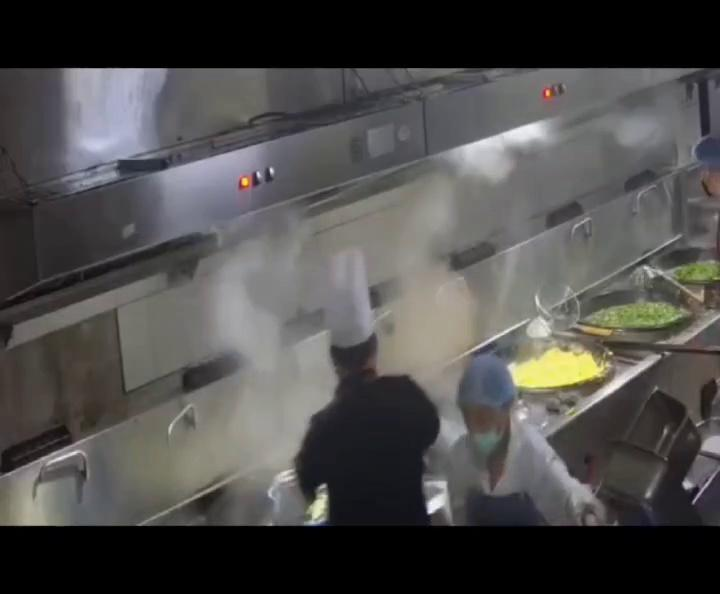gloves: (458, 353, 518, 410)
